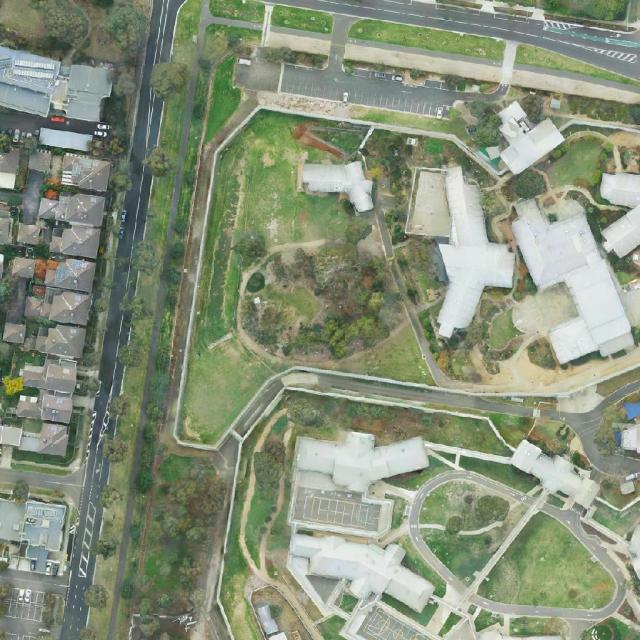building: (289, 431, 434, 611), (437, 166, 517, 338), (503, 180, 606, 292), (562, 257, 640, 360), (479, 90, 566, 177), (506, 436, 604, 512), (48, 61, 114, 123), (300, 161, 374, 215), (0, 415, 71, 458), (0, 47, 62, 96), (23, 285, 93, 328), (545, 314, 598, 366), (38, 190, 106, 228), (14, 384, 76, 425), (58, 152, 113, 194), (49, 222, 101, 260), (34, 323, 87, 360), (22, 359, 77, 393), (46, 256, 97, 292), (61, 88, 109, 124), (67, 63, 115, 97), (18, 170, 45, 226), (38, 127, 93, 153), (302, 164, 352, 192), (255, 601, 288, 640), (255, 604, 280, 637), (0, 149, 20, 188), (2, 321, 27, 345), (16, 223, 41, 246), (621, 424, 640, 453), (29, 150, 52, 172), (11, 257, 35, 278), (0, 211, 14, 245), (48, 155, 64, 179)
greenland: (194, 106, 313, 340), (476, 507, 630, 640), (240, 242, 399, 358), (279, 390, 514, 462), (145, 452, 228, 593), (348, 16, 506, 61), (244, 414, 290, 552), (539, 129, 618, 202), (514, 43, 640, 86), (94, 62, 142, 161), (91, 190, 125, 314), (442, 478, 511, 535), (357, 128, 417, 192), (115, 293, 157, 375), (200, 22, 260, 75), (305, 118, 368, 164), (136, 575, 177, 640), (271, 4, 333, 35), (153, 307, 179, 374), (507, 164, 549, 204), (469, 98, 503, 147), (73, 346, 105, 398), (173, 169, 196, 241), (134, 423, 157, 493), (149, 62, 190, 101), (99, 424, 134, 467), (605, 244, 640, 287), (144, 371, 171, 424), (128, 238, 162, 279), (140, 144, 177, 181), (174, 0, 202, 47), (160, 266, 182, 317), (516, 90, 549, 124), (105, 156, 132, 196), (192, 67, 211, 121), (110, 394, 136, 429), (94, 482, 124, 512), (82, 583, 110, 609), (547, 139, 573, 161), (154, 557, 174, 581), (128, 369, 147, 394), (92, 540, 116, 559), (170, 240, 186, 260), (141, 423, 154, 443), (171, 245, 175, 260)
metalled_road: (316, 368, 534, 423), (280, 54, 457, 120), (477, 487, 553, 581), (468, 586, 627, 627), (107, 459, 142, 640), (396, 297, 450, 388), (0, 467, 83, 505), (161, 145, 189, 254), (463, 469, 525, 505), (554, 501, 602, 547), (147, 269, 169, 366), (589, 539, 634, 584), (386, 43, 485, 63), (424, 554, 469, 597), (232, 55, 281, 94), (200, 0, 261, 30), (327, 14, 357, 73), (178, 73, 198, 157), (496, 39, 519, 97), (372, 205, 395, 258), (407, 521, 435, 562), (406, 485, 432, 529), (423, 466, 470, 490), (137, 372, 154, 436), (346, 32, 393, 51), (270, 25, 332, 39), (457, 88, 508, 103), (549, 67, 591, 82), (587, 75, 626, 90), (513, 59, 554, 73), (388, 262, 407, 289), (132, 430, 145, 465), (540, 501, 562, 520), (477, 55, 502, 66), (469, 577, 482, 594), (630, 85, 640, 93)
unmetalled_road: (233, 406, 287, 581), (270, 576, 317, 628), (262, 574, 274, 586)
